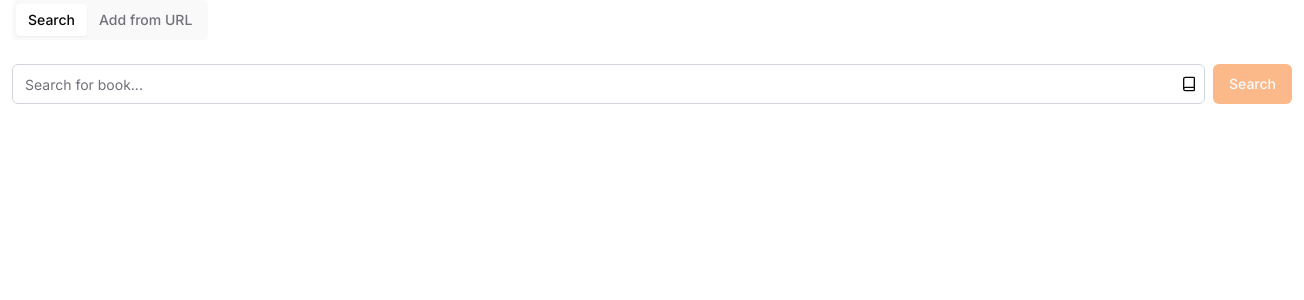
Scenario: Group 6A — Add to My Stuff picker rows › shows the canonical icon, not a stock photo, for rows with no picture
This screenshot has width=1304, height=300.
Type "dune" into the field.
click(608, 84); type("dune")  # box [12,64,1205,104]
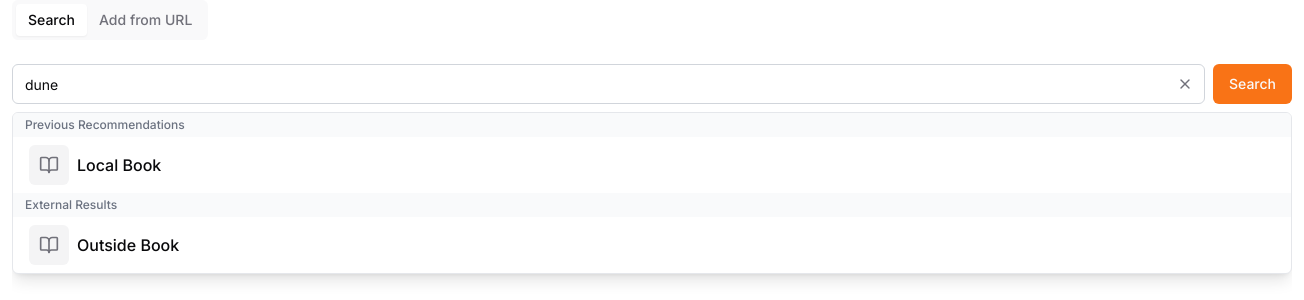
Expected: the number of pictures with test id "entity-collection-fallback" is 2, [39,155,59,175]; [39,235,59,255]
